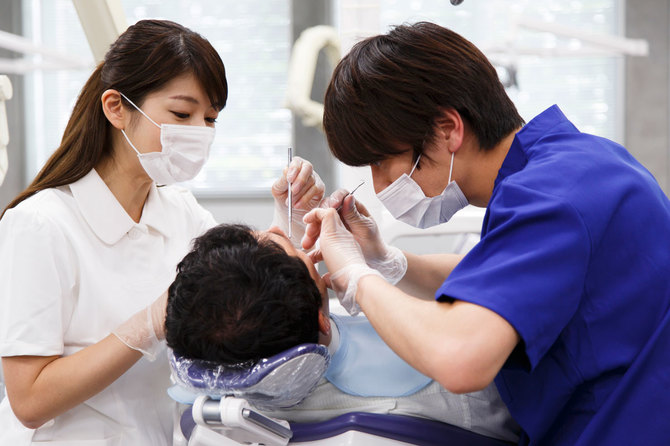mask: (136, 123, 217, 187), (378, 173, 469, 229)
